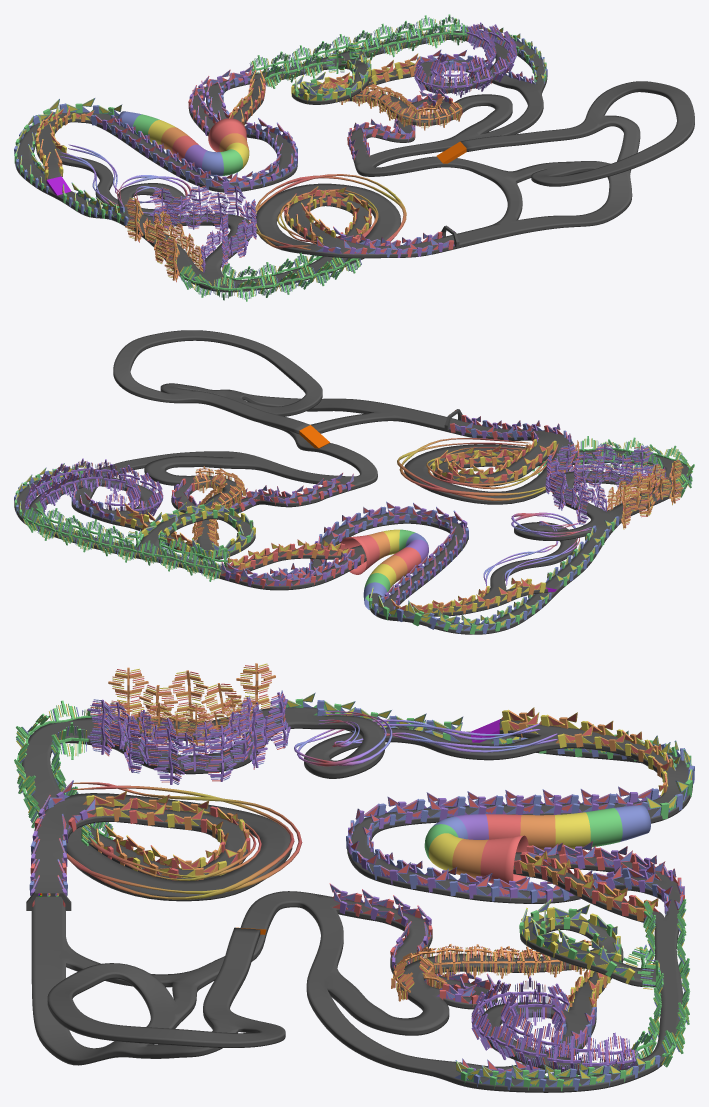
File: trackScaleOne.fbx
3 views of the same model, one above another, from view 1: azimuth 30°, elevation 25°; view 2: azimuth 150°, elevation 25°; view 3: azimuth 270°, elevation 25° (orthographic). The views are drawn at different scales.
Visible parts, largest first — view 1: Plane.001, Cylinder.005, Cube.255, Cube.257, Cube.256; view 2: Plane.001, Cylinder.005, Cube.255, Cube.257, Cube.256; view 3: Plane.001, Cylinder.005, Cube.255, Cube.257, Cube.256, stripesOrangeYellowRed.008, stripesOrangeYellowRed.012, stripesOrangeYellowRed.010, stripesPurpleRedBlue.017, stripesPurpleRedBlue.012, stripesOrangeYellowRed.011, stripesOrangeYellowRed.009.
Part boxes in pixels (bbox=[...]): Plane.001: bbox=[15, 31, 694, 292]; Cylinder.005: bbox=[117, 111, 249, 176]; Cube.255: bbox=[250, 174, 406, 249]; Cube.257: bbox=[60, 152, 191, 216]; Cube.256: bbox=[68, 144, 161, 203]; Plane.001: bbox=[14, 330, 690, 634]; Cylinder.005: bbox=[340, 529, 428, 609]; Cube.255: bbox=[397, 438, 579, 500]; Cube.257: bbox=[504, 512, 591, 585]; Cube.256: bbox=[483, 521, 579, 586]; Plane.001: bbox=[22, 707, 692, 1092]; Cylinder.005: bbox=[424, 805, 650, 886]; Cube.255: bbox=[66, 782, 302, 899]; Cube.257: bbox=[294, 711, 540, 766]; Cube.256: bbox=[318, 719, 557, 752]; stripesOrangeYellowRed.008: bbox=[108, 667, 148, 699]; stripesOrangeYellowRed.012: bbox=[236, 663, 275, 694]; stripesOrangeYellowRed.010: bbox=[168, 670, 208, 702]; stripesPurpleRedBlue.017: bbox=[515, 1033, 546, 1070]; stripesPurpleRedBlue.012: bbox=[518, 989, 552, 1025]; stripesOrangeYellowRed.011: bbox=[201, 683, 241, 713]; stripesOrangeYellowRed.009: bbox=[139, 685, 177, 716].
Bounding box in the file's own units: 100135 × 12109 × 76085.
